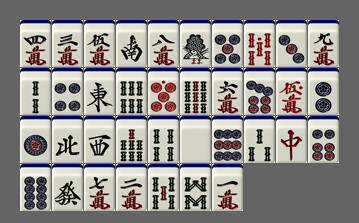0m: (276, 68, 307, 115)
0p: (148, 68, 179, 115)
0s: (244, 20, 275, 67)
1m: (212, 164, 243, 211)
1p: (20, 116, 51, 163)
1s: (180, 20, 211, 67)
1z: (84, 68, 115, 115)
2m: (116, 164, 147, 211)
2p: (308, 68, 339, 115)
2s: (20, 68, 51, 115)
2z: (116, 20, 147, 67)
3m: (52, 20, 83, 67)
3p: (276, 20, 307, 67)
3s: (244, 116, 275, 163)
3z: (84, 116, 115, 163)
4m: (20, 20, 51, 67)
4p: (52, 68, 83, 115)
4s: (148, 116, 179, 163)
4z: (52, 116, 83, 163)
5m: (84, 20, 115, 67)
5p: (212, 20, 243, 67)
5s: (148, 164, 179, 211)
5z: (180, 116, 211, 163)
6m: (212, 68, 243, 115)
6p: (308, 116, 339, 163)
6s: (116, 68, 147, 115)
6z: (52, 164, 83, 211)
7m: (84, 164, 115, 211)
7p: (244, 68, 275, 115)
7s: (116, 116, 147, 163)
7z: (276, 116, 307, 163)
8m: (148, 20, 179, 67)
8p: (20, 164, 51, 211)
8s: (180, 164, 211, 211)
9m: (308, 20, 339, 67)
9p: (212, 116, 243, 163)
9s: (180, 68, 211, 115)
